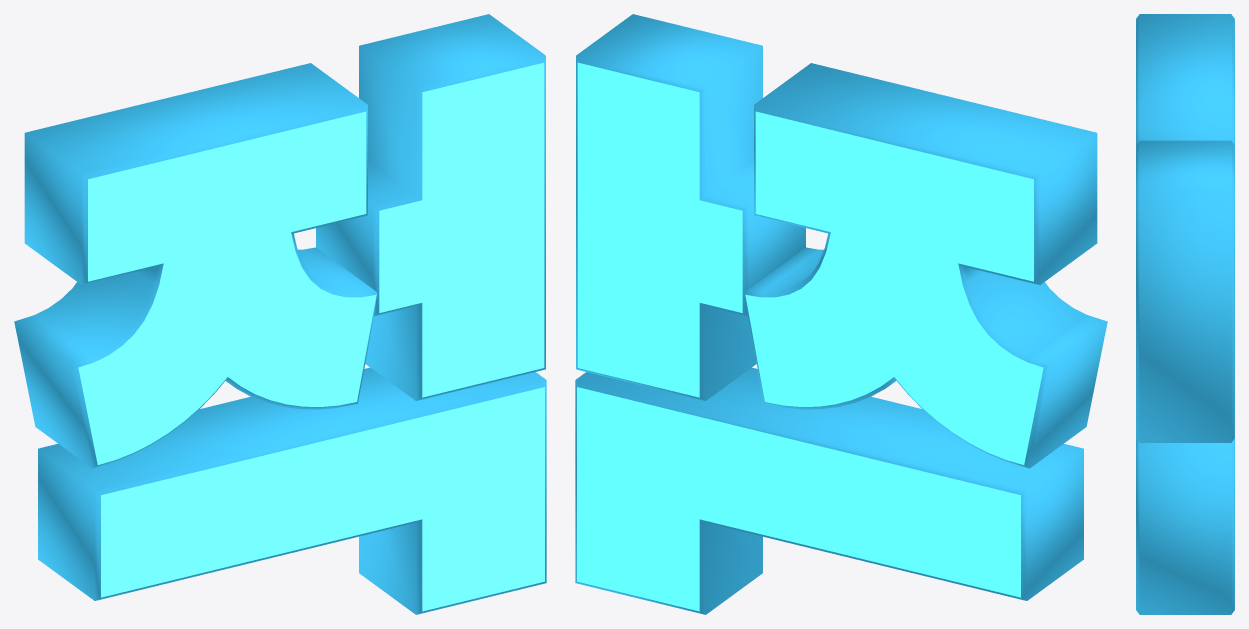
3 renders of one model, left to right at view 1: azimuth 30°, elevation 25°; view 2: azimuth 150°, elevation 25°; view 3: azimuth 270°, elevation 25°, orthographic. The views are drawn at different scales.
Parts seen in each view (by area): view 1: glyph; view 2: glyph; view 3: glyph.
Boxes of the visible parts, left/top/right/bottom form: glyph: left=14, top=14, right=546, bottom=614; glyph: left=575, top=14, right=1107, bottom=614; glyph: left=1136, top=14, right=1234, bottom=614.
Bounding box in the file's own units: 0.0723 × 0.0766 × 0.0162.
